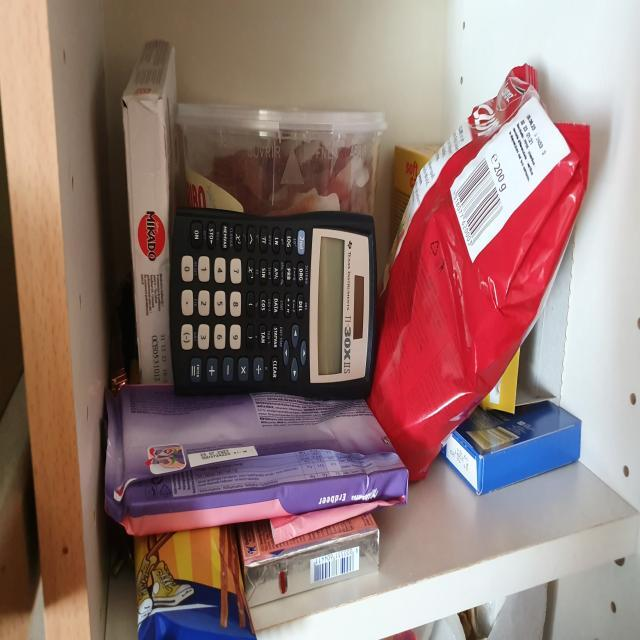Calculator: (169, 208, 377, 402)
